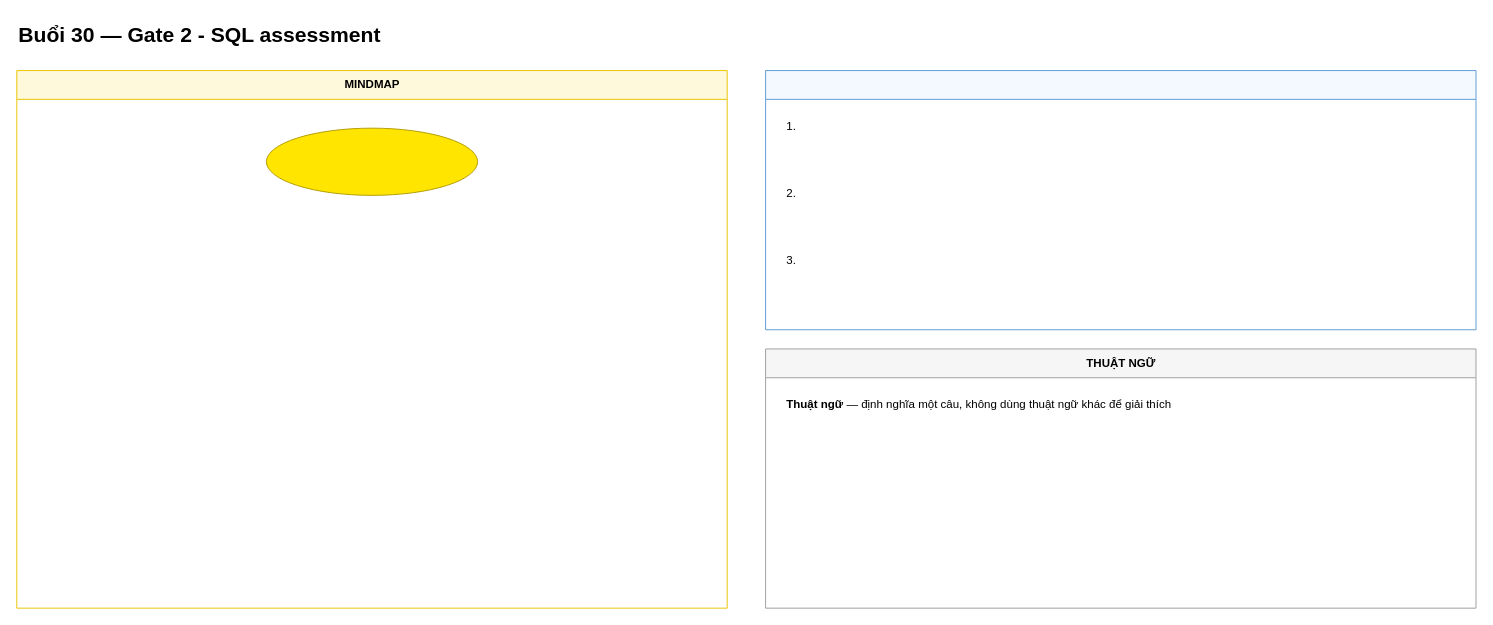
The diagram is 1493 pixels wide and 625 high, and some of its shapes have lost their labels. The shapes that lost their labels are listed below. From the top down, each one's box as (x1, y1, x2, y2) in pixels, then its label:
(265, 127, 478, 195): Gate 2 - SQL assessment
(765, 70, 1476, 330): KEY TAKEAWAY — ba điều phải nhớ
